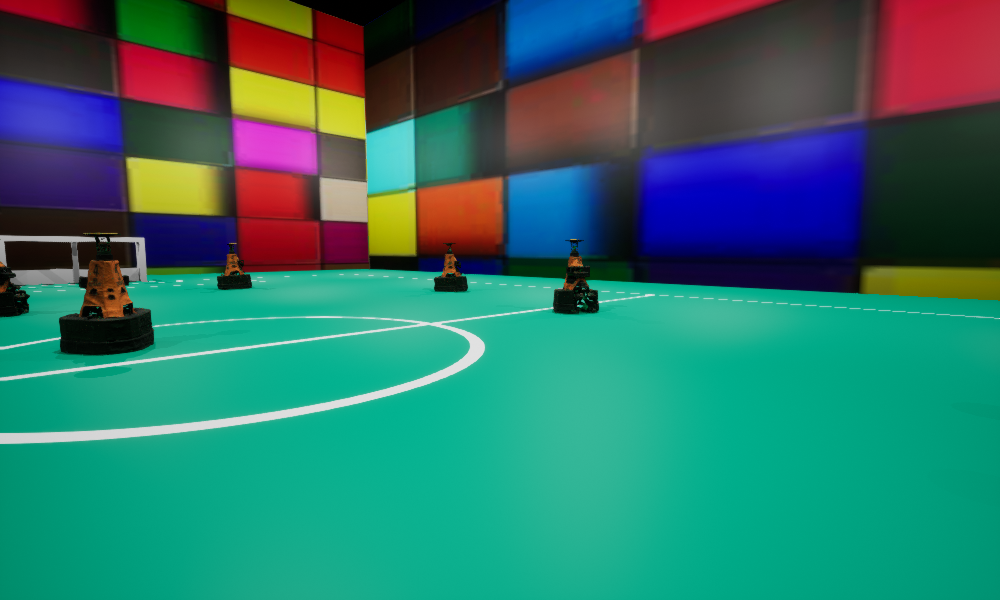0 orange robot TechUnited: (59, 233, 153, 354), (553, 239, 598, 313), (0, 239, 29, 316), (434, 243, 467, 291), (217, 243, 251, 289)
